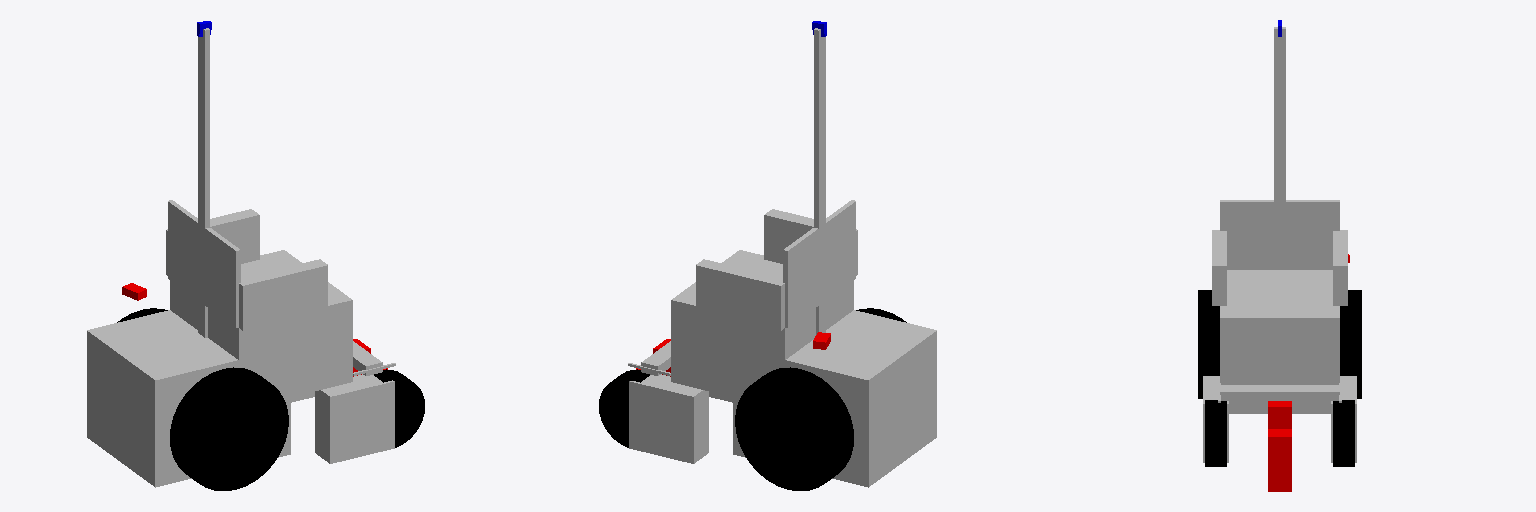
robot.urdf — wheelchair:
<?xml version="1.0"?>
<robot name="wheelchair">

    <link name="base_footprint" />

    <joint name="base_joint" type="fixed">
        <axis xyz="0 0 0" />
        <parent link="base_footprint" />
        <child link="base_link" />
        <origin xyz="0 0 0.0102" rpy="0 0 1.5708" />
    </joint>

    <link name="base_link">
        <visual>
            <geometry>
                <box size="0.5 0.57 0.43" />
            </geometry>
            <material name="silver">
                <color rgba="0.8 0.8 0.8 1" />
            </material>
        </visual>
        <collision>
            <geometry>
                <box size="0.5 0.57 0.43" />
            </geometry>
        </collision>
        <inertial>
            <mass value="1.0" />
            <inertia ixx="0.015" iyy="0.0375" izz="0.0375" ixy="0" ixz="0" iyz="0" />
        </inertial>
    </link>


    <link name="block2_seat">
        <visual>
            <geometry>
                <box size="0.5 0.22 0.1" />
            </geometry>
            <material name="silver" />
        </visual>
        <collision>
            <geometry>
                <box size="0.5 0.22 0.1" />
            </geometry>
        </collision>
        <inertial>
            <mass value="1.0" />
            <inertia ixx="0.015" iyy="0.0375" izz="0.0375" ixy="0" ixz="0" iyz="0" />
        </inertial>
    </link>

    <joint name="block2_joint" type="fixed">
        <axis xyz="0 0 0" />
        <parent link="base_link" />
        <child link="block2_seat" />
        <origin rpy="0 0 0" xyz="0 -0.175 0.265" />
    </joint>


    <link name="block3_seat">
        <visual>
            <geometry>
                <box size="0.5 0.26 0.3" />
            </geometry>
            <material name="silver" />
        </visual>
        <collision>
            <geometry>
                <box size="0.5 0.26 0.3" />
            </geometry>
        </collision>
        <inertial>
            <mass value="1.0" />
            <inertia ixx="0.015" iyy="0.0375" izz="0.0375" ixy="0" ixz="0" iyz="0" />
        </inertial>
    </link>
    <joint name="block3_joint" type="fixed">
        <axis xyz="0 0 0" />
        <parent link="base_link" />
        <child link="block3_seat" />
        <origin rpy="0 0 0" xyz="0 -0.415 0.165" />
    </joint>


    <link name="soft_seat">
        <visual>
            <geometry>
                <box size="0.5 0.48 0.03" />
            </geometry>
            <material name="silver" />
        </visual>
        <collision>
            <geometry>
                <box size="0.5 0.48 0.03" />
            </geometry>
        </collision>
        <inertial>
            <mass value="1.0" />
            <inertia ixx="0.015" iyy="0.0375" izz="0.0375" ixy="0" ixz="0" iyz="0" />
        </inertial>
    </link>

    <joint name="soft_joint" type="fixed">
        <axis xyz="0 0 0" />
        <parent link="base_link" />
        <child link="soft_seat" />
        <origin rpy="0 0 0" xyz="0 -0.305 0.33" />
    </joint>


    <link name="back_seat">
        <visual>
            <geometry>
                <box size="0.5 0.02 0.310" />
            </geometry>
            <material name="silver" />
        </visual>
        <collision>
            <geometry>
                <box size="0.5 0.02 0.310" />
            </geometry>
        </collision>
        <inertial>
            <mass value="1.0" />
            <inertia ixx="0.015" iyy="0.0375" izz="0.0375" ixy="0" ixz="0" iyz="0" />
        </inertial>
    </link>
    <joint name="back_seat_joint" type="fixed">
        <axis xyz="1 0 0" />
        <parent link="base_link" />
        <child link="back_seat" />
        <origin rpy="0 0 0" xyz="0 -0.065 0.5" />
    </joint>


    <link name="back_pole">
        <visual>
            <geometry>
                <box size="0.05 0.02 1.455" />
            </geometry>
            <material name="silver" />
        </visual>
        <collision>
            <geometry>
                <box size="0.5 0.02 0.310" />
            </geometry>
        </collision>
        <inertial>
            <mass value="1.0" />
            <inertia ixx="0.015" iyy="0.0375" izz="0.0375" ixy="0" ixz="0" iyz="0" />
        </inertial>
    </link>

    <joint name="back_pole_joint" type="fixed">
        <axis xyz="1 0 0" />
        <parent link="base_link" />
        <child link="back_pole" />
        <origin rpy="0 0 0" xyz="0 -0.065 0.7225" />
    </joint>

    <link name="rs_lidar_link">
        <visual>
            <geometry>
                <box size="0.05 0.02 0.05" />
            </geometry>
            <material name="blue">
                <color rgba="0 0 1 1" />
            </material>
        </visual>
        <collision>
            <geometry>
                <box size="0.5 0.02 0.310" />
            </geometry>
        </collision>
        <inertial>
            <mass value="1.0" />
            <inertia ixx="0.015" iyy="0.0375" izz="0.0375" ixy="0" ixz="0" iyz="0" />
        </inertial>
    </link>

    <joint name="camera_link_joint" type="fixed">
        <axis xyz="1 0 0" />
        <parent link="back_pole" />
        <child link="rs_lidar_link" />
        <origin rpy="0 0.07 -1.5708" xyz="0 0 0.7225" />
    </joint>


    <link name="side_seat">
        <visual>
            <geometry>
                <box size="0.06 0.36 0.18" />
            </geometry>
            <material name="silver" />
        </visual>
        <collision>
            <geometry>
                <box size="0.06 0.36 0.18" />
            </geometry>
        </collision>
        <inertial>
            <mass value="1.0" />
            <inertia ixx="0.015" iyy="0.0375" izz="0.0375" ixy="0" ixz="0" iyz="0" />
        </inertial>
    </link>
    <joint name="side_seat_joint" type="fixed">
        <axis xyz="1 0 0" />
        <parent link="base_link" />
        <child link="side_seat" />
        <origin rpy="0 0 0" xyz="0.25 -0.245 0.435" />
    </joint>


    <link name="side_seat_2">
        <visual>
            <geometry>
                <box size="0.06 0.36 0.18" />
            </geometry>
            <material name="silver" />
        </visual>
        <collision>
            <geometry>
                <box size="0.06 0.36 0.18" />
            </geometry>
        </collision>
        <inertial>
            <mass value="1.0" />
            <inertia ixx="0.015" iyy="0.0375" izz="0.0375" ixy="0" ixz="0" iyz="0" />
        </inertial>
    </link>
    <joint name="side_seat_2_joint" type="fixed">
        <axis xyz="1 0 0" />
        <parent link="base_link" />
        <child link="side_seat_2" />
        <origin rpy="0 0 0" xyz="-0.25 -0.245 0.435" />
    </joint>


    <link name="front_pole_right">
        <visual>
            <geometry>
                <box size="0.01 0.18 0.01" />
            </geometry>
            <material name="silver" />
        </visual>
        <collision>
            <geometry>
                <box size="0.01 0.18 0.01" />
            </geometry>
        </collision>
        <inertial>
            <mass value="1.0" />
            <inertia ixx="0.015" iyy="0.0375" izz="0.0375" ixy="0" ixz="0" iyz="0" />
        </inertial>
    </link>
    <joint name="front_pole_right_joint" type="fixed">
        <axis xyz="1 0 0" />
        <parent link="block3_seat" />
        <child link="front_pole_right" />
        <origin rpy="0 0 0" xyz="-0.25 -0.22 -0.12" />
    </joint>


    <link name="front_pole_left">
        <visual>
            <geometry>
                <box size="0.01 0.18 0.01" />
            </geometry>
            <material name="silver" />
        </visual>
        <collision>
            <geometry>
                <box size="0.01 0.18 0.01" />
            </geometry>
        </collision>
        <inertial>
            <mass value="1.0" />
            <inertia ixx="0.015" iyy="0.0375" izz="0.0375" ixy="0" ixz="0" iyz="0" />
        </inertial>
    </link>

    <joint name="front_pole_left_joint" type="fixed">
        <axis xyz="1 0 0" />
        <parent link="block3_seat" />
        <child link="front_pole_left" />
        <origin rpy="0 0 0" xyz="0.25 -0.22 -0.12" />
    </joint>


    <link name="lidar_panel">
        <visual>
            <geometry>
                <box size="0.5 0.07 0.04" />
            </geometry>
            <material name="silver" />
        </visual>
        <collision>
            <geometry>
                <box size="0.5 0.07 0.04" />
            </geometry>
        </collision>
        <inertial>
            <mass value="1.0" />
            <inertia ixx="0.015" iyy="0.0375" izz="0.0375" ixy="0" ixz="0" iyz="0" />
        </inertial>
    </link>
    <joint name="lidar_panel_joint" type="fixed">
        <axis xyz="1 0 0" />
        <parent link="block3_seat" />
        <child link="lidar_panel" />
        <origin rpy="0 0 0" xyz="0 -0.22 -0.12" />
    </joint>

    <link name="laser">
        <visual>
            <geometry>
                <box size="0.1 0.1 0.25" />
            </geometry>
            <material name="red">
                <color rgba="1 0 0 1" />
            </material>
        </visual>

        <inertial>
            <mass value="0.1" />
            <inertia ixx="5.1458e-5" iyy="5.1458e-5" izz="6.125e-5" ixy="0" ixz="0" iyz="0" />
        </inertial>
        <collision>
            <geometry>
                <box size="0.1 0.1 0.25" />
            </geometry>
        </collision>
    </link>
    <joint name="laser_joint" type="fixed">
        <axis xyz="0 0 0" />
        <parent link="lidar_panel" />
        <child link="laser" />
        <origin rpy="0 0 -1.5708" xyz="0 -0.05 -0.145" />
    </joint>


    <link name="rp_laser_front">
        <visual>
            <geometry>
                <box size="0.1 0.1 0.25" />
            </geometry>
            <material name="red">
                <color rgba="1 0 0 1" />
            </material>
        </visual>

        <inertial>
            <mass value="0.1" />
            <inertia ixx="5.1458e-5" iyy="5.1458e-5" izz="6.125e-5" ixy="0" ixz="0" iyz="0" />
        </inertial>
        <collision>
            <geometry>
                <box size="0.1 0.1 0.25" />
            </geometry>
        </collision>
    </link>
    <joint name="rp_laser_front_joint" type="fixed">
        <axis xyz="0 0 0" />
        <parent link="lidar_panel" />
        <child link="rp_laser_front" />
        <origin rpy="0 0 -1.57" xyz="0 -0.125 -0.245" />
    </joint>

    <link name="rp_laser_back">
        <visual>
            <geometry>
                <box size="0.05 0.08 0.03" />
            </geometry>
            <material name="red">
                <color rgba="1 0 0 1" />
            </material>
        </visual>
        <collision>
            <geometry>
                <box size="0.05 0.08 0.03" />
            </geometry>
        </collision>
        <inertial>
            <mass value="1.0" />
            <inertia ixx="0.015" iyy="0.0375" izz="0.0375" ixy="0" ixz="0" iyz="0" />
        </inertial>
    </link>

    <joint name="rp_laser_back_joint" type="fixed">
        <axis xyz="0 0 0" />
        <parent link="base_link" />
        <child link="rp_laser_back" />
        <origin rpy="0 0 -1.30" xyz="0.245 0.086 0.325" />
    </joint>


    <link name="front_caster_right">
        <visual>
            <geometry>
                <box size="0.11 0.27 0.27" />
            </geometry>
            <material name="silver" />
        </visual>
        <collision>
            <geometry>
                <box size="0.11 0.27 0.27" />
            </geometry>
        </collision>
        <inertial>
            <mass value="1.0" />
            <inertia ixx="0.015" iyy="0.0375" izz="0.0375" ixy="0" ixz="0" iyz="0" />
        </inertial>
    </link>
    <joint name="front_caster_right_joint" type="continuous">
        <axis xyz="0 0 1" />
        <parent link="block3_seat" />
        <child link="front_caster_right" />
        <origin rpy="0 0 0" xyz="-0.265 -0.13 -0.285" />
    </joint>


    <link name="front_caster_left">
        <visual>
            <geometry>
                <box size="0.11 0.27 0.27" />
            </geometry>
            <material name="silver" />
        </visual>
        <collision>
            <geometry>
                <box size="0.11 0.27 0.27" />
            </geometry>
        </collision>
        <inertial>
            <mass value="1.0" />
            <inertia ixx="0.015" iyy="0.0375" izz="0.0375" ixy="0" ixz="0" iyz="0" />
        </inertial>
    </link>
    <joint name="front_caster_left_joint" type="continuous">
        <axis xyz="0 0 1" />
        <parent link="block3_seat" />
        <child link="front_caster_left" />
        <origin rpy="0 0 0" xyz="0.265 -0.13 -0.285" />
    </joint>


    <link name="front_wheel_left">
        <visual>
            <geometry>
                <cylinder length="0.09" radius="0.140" />
            </geometry>
            <material name="black" />
        </visual>

        <inertial>
            <mass value="0.1" />
            <inertia ixx="5.1458e-5" iyy="5.1458e-5" izz="6.125e-5" ixy="0" ixz="0" iyz="0" />
        </inertial>
        <collision>
            <geometry>
                <cylinder length="0.09" radius="0.140" />
            </geometry>
        </collision>
    </link>
    <joint name="front_wheel_left_joint" type="continuous">
        <axis xyz="0 0 1" />
        <parent link="front_caster_left" />
        <child link="front_wheel_left" />
        <origin rpy="-1.5708 0 1.5708" xyz="0 -0.13 0" />
    </joint>


    <link name="front_wheel_right">
        <visual>
            <geometry>
                <cylinder length="0.09" radius="0.140" />
            </geometry>
            <material name="black" />
        </visual>
        <collision>
            <geometry>
                <cylinder length="0.09" radius="0.140" />
            </geometry>
        </collision>
        <inertial>
            <mass value="0.1" />
            <inertia ixx="5.1458e-5" iyy="5.1458e-5" izz="6.125e-5" ixy="0" ixz="0" iyz="0" />
        </inertial>
    </link>
    <joint name="front_wheel_right_joint" type="continuous">
        <axis xyz="0 0 1" />
        <parent link="front_caster_right" />
        <child link="front_wheel_right" />
        <origin rpy="-1.5708 0 1.5708" xyz="0 -0.13 0" />
    </joint>


    <link name="right_rear_wheel">
        <visual>
            <geometry>
                <cylinder length="0.09" radius="0.225" />
            </geometry>
            <material name="black">
                <color rgba="0 0 0 1" />
            </material>
        </visual>
        <collision>
            <geometry>
                <cylinder length="0.09" radius="0.225" />
            </geometry>
        </collision>
        <inertial>
            <mass value="0.1" />
            <inertia ixx="5.1458e-5" iyy="5.1458e-5" izz="6.125e-5" ixy="0" ixz="0" iyz="0" />
        </inertial>
    </link>
    <joint name="right_rear_wheel_joint" type="continuous">
        <axis xyz="0 0 -1" />
        <parent link="base_link" />
        <child link="right_rear_wheel" />
        <origin rpy="-1.5708 0 1.5708" xyz="-0.295 0 -0.03" />
    </joint>


    <link name="left_rear_wheel">
        <visual>
            <geometry>
                <cylinder length="0.09" radius="0.225" />
            </geometry>
            <material name="black" />
        </visual>
        <collision>
            <geometry>
                <cylinder length="0.09" radius="0.225" />
            </geometry>
        </collision>
        <inertial>
            <mass value="0.1" />
            <inertia ixx="5.1458e-5" iyy="5.1458e-5" izz="6.125e-5" ixy="0" ixz="0" iyz="0" />
        </inertial>
    </link>
    <joint name="left_rear_wheel_joint" type="continuous">
        <axis xyz="0 0 -1" />
        <parent link="base_link" />
        <child link="left_rear_wheel" />
        <origin rpy="-1.5708 0 1.5708" xyz="0.295 0 -0.03" />
    </joint>


</robot>

--- Facts derived from the render (not from the file) ---
The picture shows the robot from 3 angles, left to right: view 1: azimuth 30°, elevation 25°; view 2: azimuth 150°, elevation 25°; view 3: azimuth 270°, elevation 25°; orthographic projection.
Robot: wheelchair — 22 links, 21 joints (6 continuous, 15 fixed); root link base_footprint; default pose: all joints at 0.
Visible links, largest first — view 1: base_link, right_rear_wheel, front_caster_right, back_seat, side_seat_2, block3_seat, back_pole, block2_seat, soft_seat, front_wheel_right, side_seat, lidar_panel; view 2: base_link, left_rear_wheel, front_caster_left, back_seat, side_seat, block3_seat, block2_seat, back_pole, soft_seat, front_wheel_left, side_seat_2, lidar_panel; view 3: back_seat, block3_seat, soft_seat, back_pole, lidar_panel, right_rear_wheel, left_rear_wheel, rp_laser_front, front_wheel_left, front_wheel_right, side_seat, side_seat_2 (+4 smaller).
Boxes of the visible links, box(x1,y1,x2,y2) form: base_link: box(87, 310, 290, 487); right_rear_wheel: box(170, 367, 288, 490); front_caster_right: box(315, 374, 394, 463); back_seat: box(168, 200, 240, 327); side_seat_2: box(239, 259, 327, 330); block3_seat: box(291, 308, 352, 396); back_pole: box(198, 28, 209, 337); block2_seat: box(170, 285, 290, 359); soft_seat: box(170, 250, 352, 334); front_wheel_right: box(374, 369, 424, 447); side_seat: box(166, 209, 259, 275); lidar_panel: box(353, 341, 382, 375); base_link: box(733, 310, 936, 487); left_rear_wheel: box(735, 367, 853, 490); front_caster_left: box(629, 374, 708, 463); back_seat: box(783, 200, 855, 327); side_seat: box(696, 259, 784, 330); block3_seat: box(671, 308, 732, 396); block2_seat: box(733, 285, 853, 359); back_pole: box(814, 28, 825, 334); soft_seat: box(671, 250, 853, 334); front_wheel_left: box(599, 369, 649, 447); side_seat_2: box(764, 209, 857, 275); lidar_panel: box(641, 341, 670, 375); back_seat: box(1220, 200, 1339, 269); block3_seat: box(1220, 325, 1339, 384); soft_seat: box(1220, 270, 1339, 324); back_pole: box(1274, 27, 1285, 269); lidar_panel: box(1220, 385, 1339, 400); right_rear_wheel: box(1198, 290, 1219, 398); left_rear_wheel: box(1340, 290, 1361, 398); rp_laser_front: box(1268, 429, 1291, 491); front_wheel_left: box(1333, 400, 1354, 466); front_wheel_right: box(1205, 400, 1226, 466); side_seat: box(1333, 230, 1347, 305); side_seat_2: box(1212, 230, 1226, 305).
Bounding box of the posed robot: 1.1 × 0.68 × 1.8 m (x, y, z).
Geometry: primitives only (box / cylinder / sphere), no mesh files.